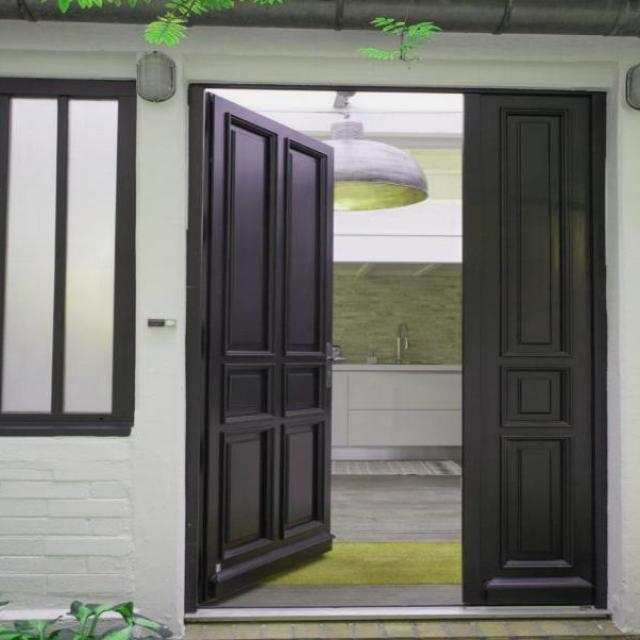door: (198, 92, 335, 604)
